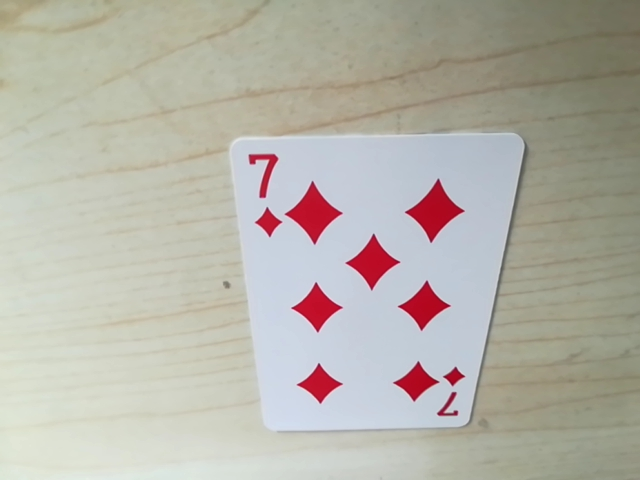fk 7: (425, 369, 467, 426), (242, 142, 284, 178)
